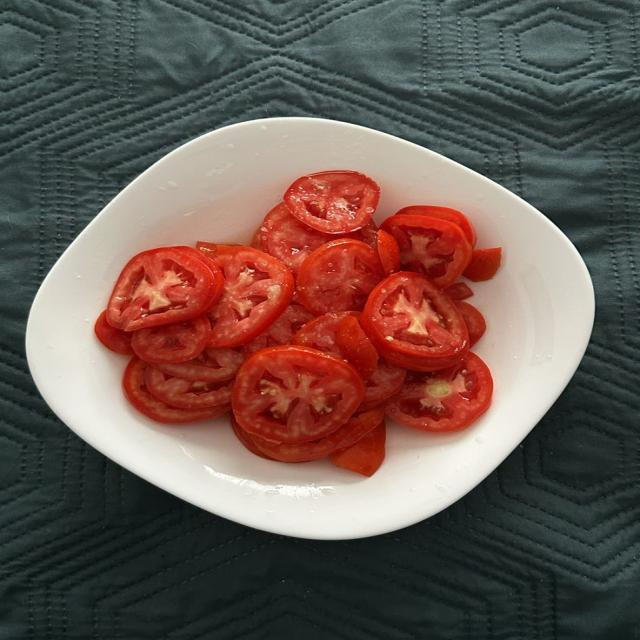sliced_tomato: (233, 346, 364, 442), (360, 272, 468, 371), (107, 248, 222, 330), (207, 246, 293, 347), (386, 353, 493, 431), (234, 410, 384, 462), (123, 357, 229, 423), (381, 214, 472, 288), (297, 239, 383, 315), (252, 203, 335, 275), (284, 171, 379, 233), (259, 203, 333, 275), (132, 315, 211, 363), (145, 367, 233, 409), (244, 304, 313, 355), (397, 206, 477, 246), (153, 348, 244, 382), (294, 312, 360, 358), (332, 421, 386, 476), (336, 316, 378, 380), (359, 359, 406, 411), (231, 413, 273, 459), (94, 310, 133, 354), (456, 301, 486, 347), (464, 248, 501, 281), (377, 229, 400, 275), (445, 282, 473, 300)
